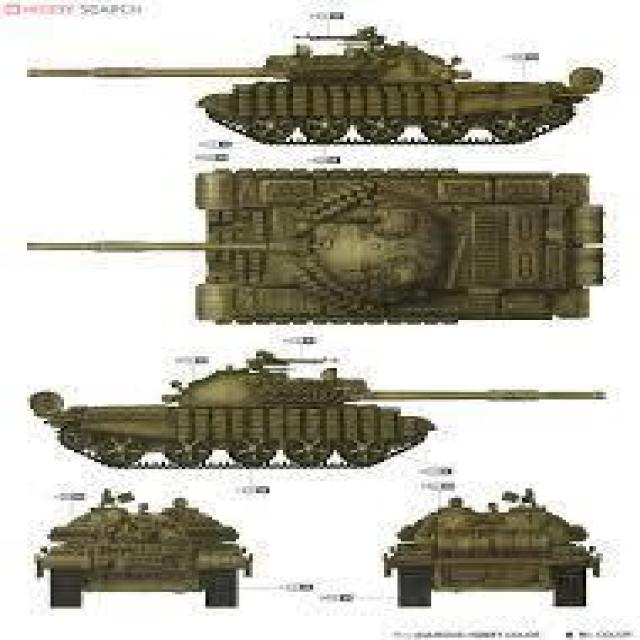Tanks: (190, 152, 608, 356), (197, 22, 591, 137), (27, 367, 428, 468), (27, 482, 253, 622), (386, 478, 601, 617)
